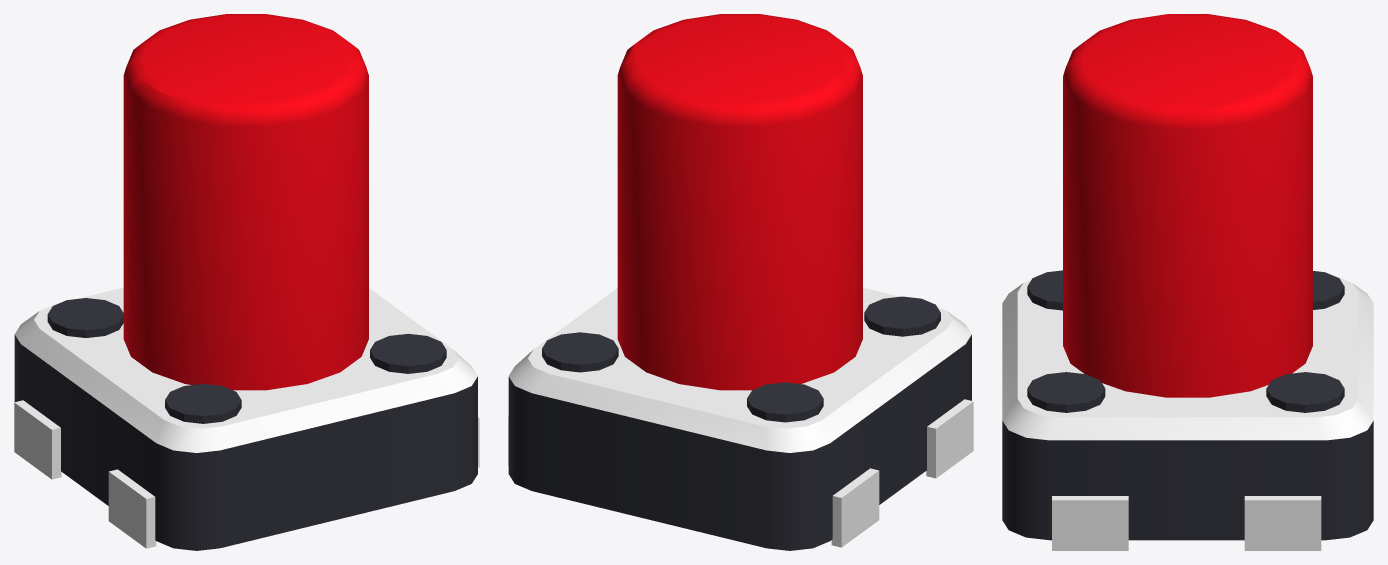
File: Switch_1_OFF.fbx
3 renders of one model, left to right at view 1: azimuth 30°, elevation 25°; view 2: azimuth 150°, elevation 25°; view 3: azimuth 270°, elevation 25°, orthographic.
Visible parts, largest first — view 1: Switch_1_OFF; view 2: Switch_1_OFF; view 3: Switch_1_OFF.
Part boxes in pixels (bbox=[...]): Switch_1_OFF: bbox=[14, 14, 479, 550]; Switch_1_OFF: bbox=[508, 14, 973, 550]; Switch_1_OFF: bbox=[1002, 14, 1373, 550].
Size of the model in its own units: 52.85 by 60.65 by 50.
